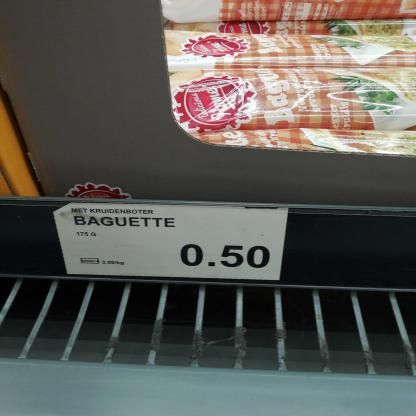prtg: (53, 203, 289, 282)
